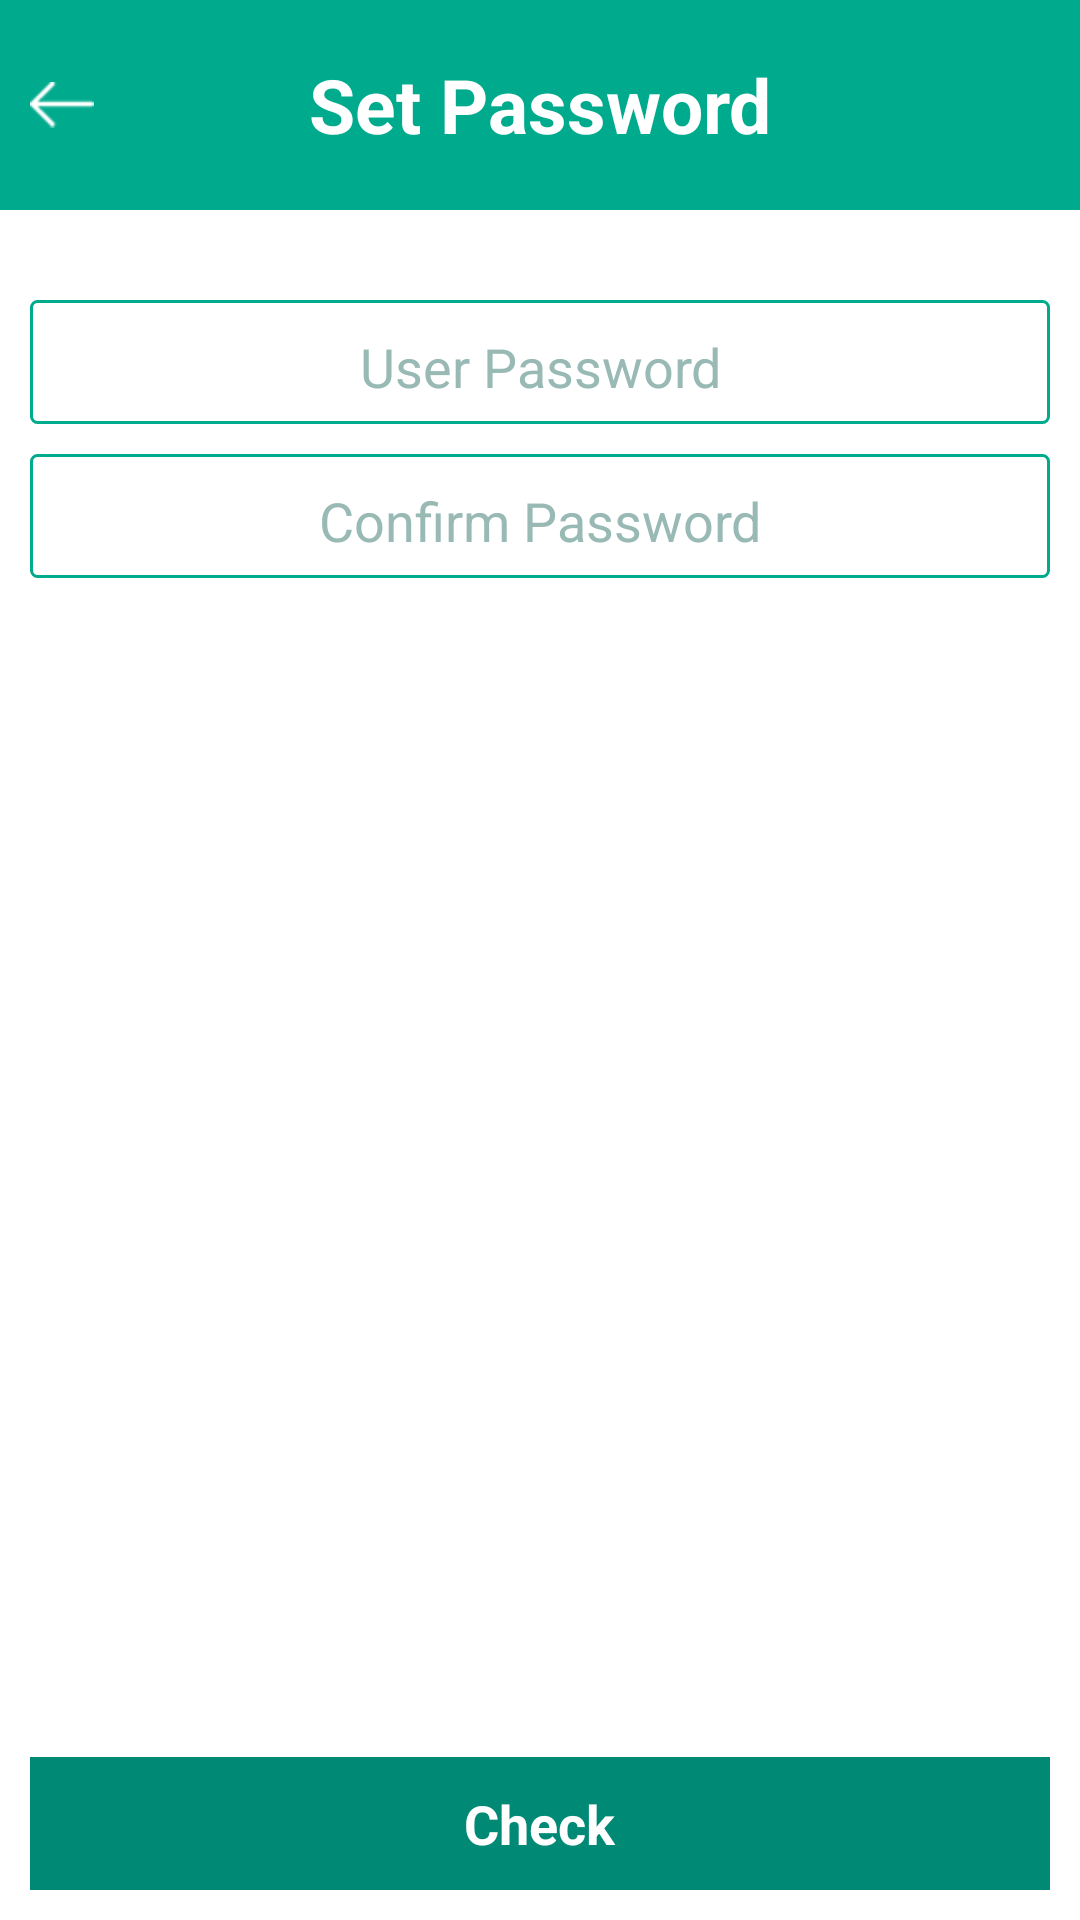

Icons on this 1080px×1920px Android screen, each with its box as Rect(x1, y1, x2, y2):
back: Rect(30, 82, 94, 128)
